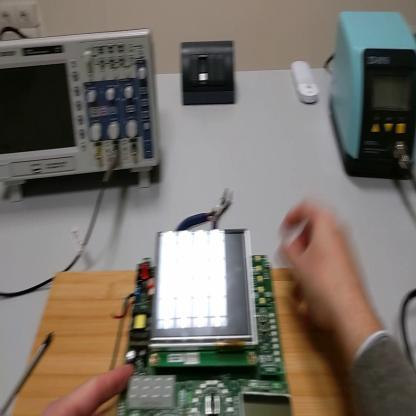hand: (281, 200, 365, 337), (39, 363, 135, 415)
low voltage board: (103, 230, 287, 416)
oscilloscope: (1, 28, 160, 204)
pliers: (198, 187, 234, 231)
screwdriver-: (1, 332, 55, 415)
welder station: (328, 11, 415, 180)
working area: (7, 271, 345, 416)
